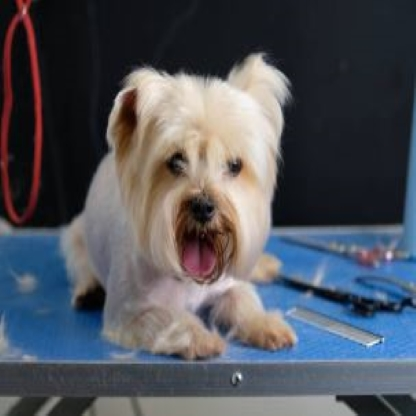maltese: (62, 49, 300, 356)
